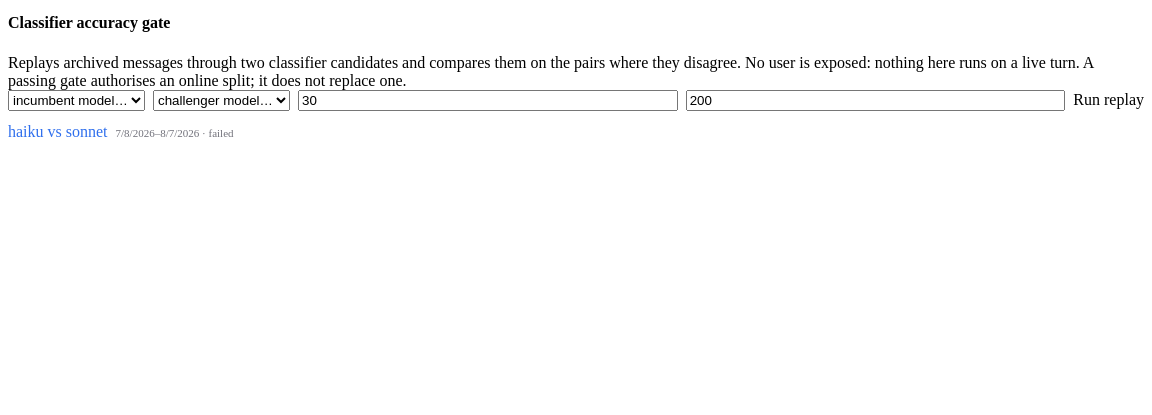
Scenario: ClassifierGatePanel › flags an unfinished run ABOVE its numbers
This screenshot has width=1152, height=415.
Click the button "haiku vs sonnet".
click(58, 132)  # box x1=8 y1=122 x2=108 y2=140
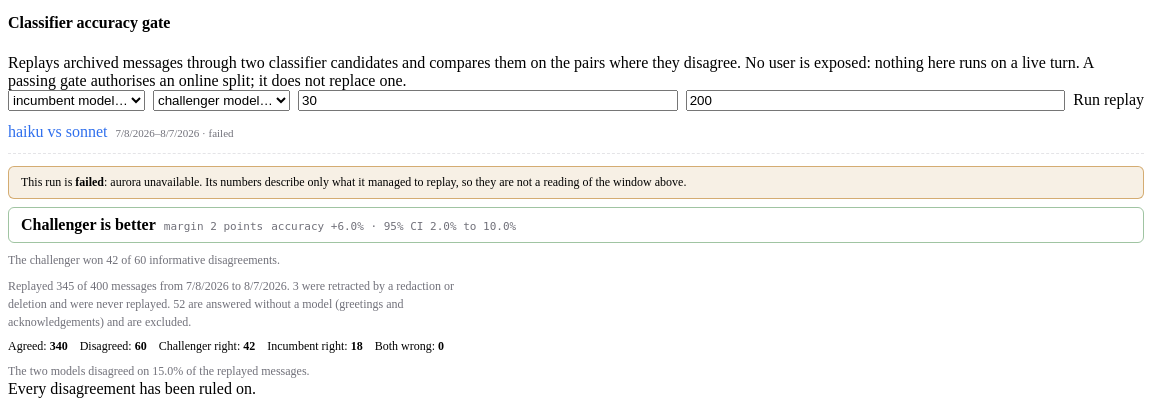
Expected: the text "not a reading of the window above" is shown, x1=199 y1=174 x2=686 y2=188
